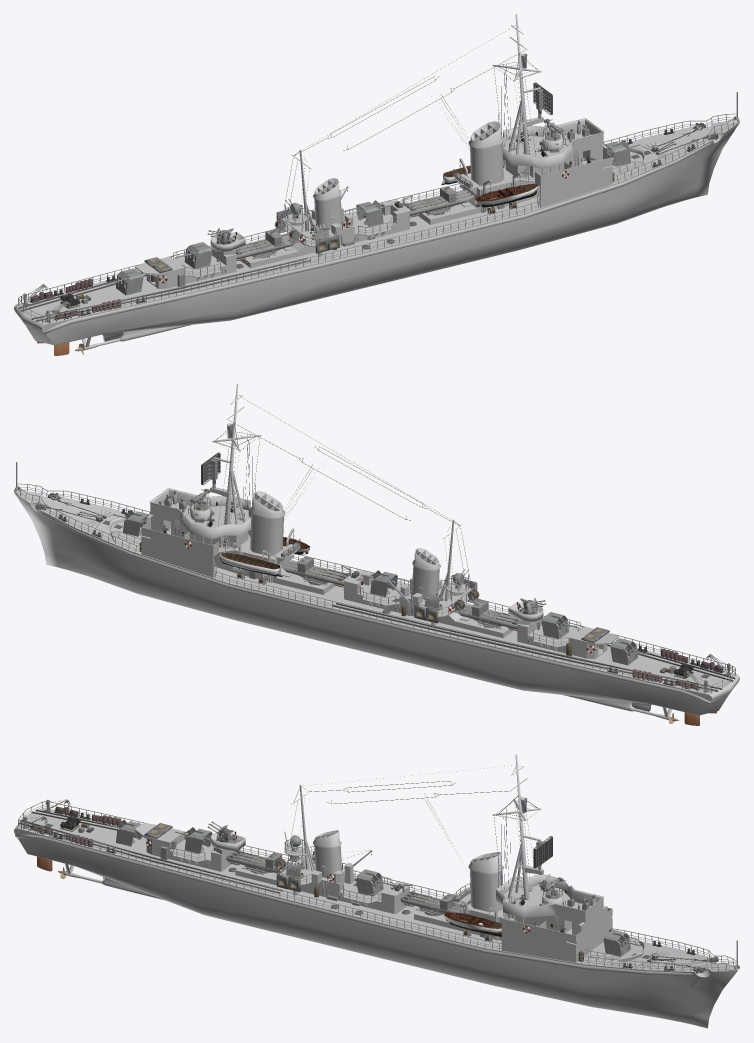
3 renders of one model, top to bottom at view 1: azimuth 30°, elevation 25°; view 2: azimuth 150°, elevation 25°; view 3: azimuth 330°, elevation 25°, orthographic.
Visible parts, largest first — view 1: T-22_Hull, T-22_Props, T-22_SideFence, T-22_TorpedoTubes.001_0, T-22_TorpedoTubes.001, T-22_Cables, T-22_Vessel_1, T-22_Main_turret.003, T-22_Main_turret.003_0; view 2: T-22_Hull, T-22_Props, T-22_SideFence, T-22_TorpedoTubes.001_0, T-22_Cables, T-22_TorpedoTubes.001, T-22_Vessel_2, T-22_Main_turret.003, T-22_Main_turret.003_0; view 3: T-22_Hull, T-22_Props, T-22_SideFence, T-22_Main_turret.003_0 (×3), T-22_TorpedoTubes.001_0, T-22_Cables, T-22_TorpedoTubes.001, T-22_Vessel_1, T-22_Main_turret.003, T-22_Radar_2.
Boxes of the visible parts, x1=… form: T-22_Hull: x1=14, y1=14, x2=739, y2=350; T-22_Props: x1=18, y1=92, x2=739, y2=322; T-22_SideFence: x1=18, y1=113, x2=737, y2=323; T-22_TorpedoTubes.001_0: x1=404, y1=186, x2=474, y2=217; T-22_TorpedoTubes.001: x1=235, y1=230, x2=295, y2=260; T-22_Cables: x1=282, y1=25, x2=539, y2=226; T-22_Vessel_1: x1=474, y1=183, x2=538, y2=207; T-22_Main_turret.003: x1=116, y1=268, x2=143, y2=295; T-22_Main_turret.003_0: x1=184, y1=242, x2=212, y2=268; T-22_Hull: x1=14, y1=384, x2=739, y2=719; T-22_Props: x1=14, y1=462, x2=735, y2=692; T-22_SideFence: x1=16, y1=483, x2=735, y2=693; T-22_TorpedoTubes.001_0: x1=280, y1=556, x2=349, y2=587; T-22_Cables: x1=214, y1=395, x2=471, y2=596; T-22_TorpedoTubes.001: x1=458, y1=600, x2=518, y2=630; T-22_Vessel_2: x1=220, y1=552, x2=282, y2=576; T-22_Main_turret.003: x1=610, y1=638, x2=637, y2=665; T-22_Main_turret.003_0: x1=541, y1=612, x2=569, y2=638; T-22_Hull: x1=14, y1=754, x2=739, y2=1028; T-22_Props: x1=19, y1=799, x2=739, y2=973; T-22_SideFence: x1=18, y1=801, x2=736, y2=971; T-22_Main_turret.003_0 (×3): x1=184, y1=827, x2=630, y2=956; T-22_TorpedoTubes.001_0: x1=400, y1=890, x2=463, y2=916; T-22_Cables: x1=289, y1=765, x2=538, y2=901; T-22_TorpedoTubes.001: x1=226, y1=849, x2=289, y2=875; T-22_Vessel_1: x1=443, y1=912, x2=501, y2=936; T-22_Main_turret.003: x1=116, y1=820, x2=141, y2=846; T-22_Radar_2: x1=533, y1=836, x2=552, y2=870.
Size of the model in its own units: 97.14 by 29.45 by 9.72.
